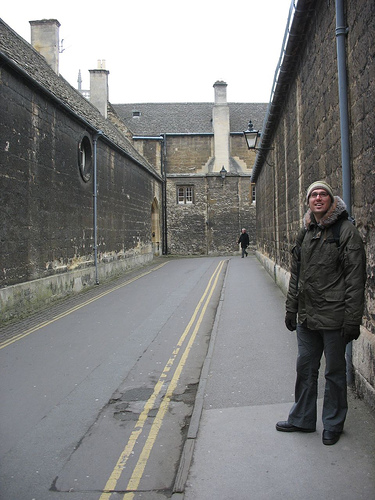without_mask: (305, 185, 337, 219)
